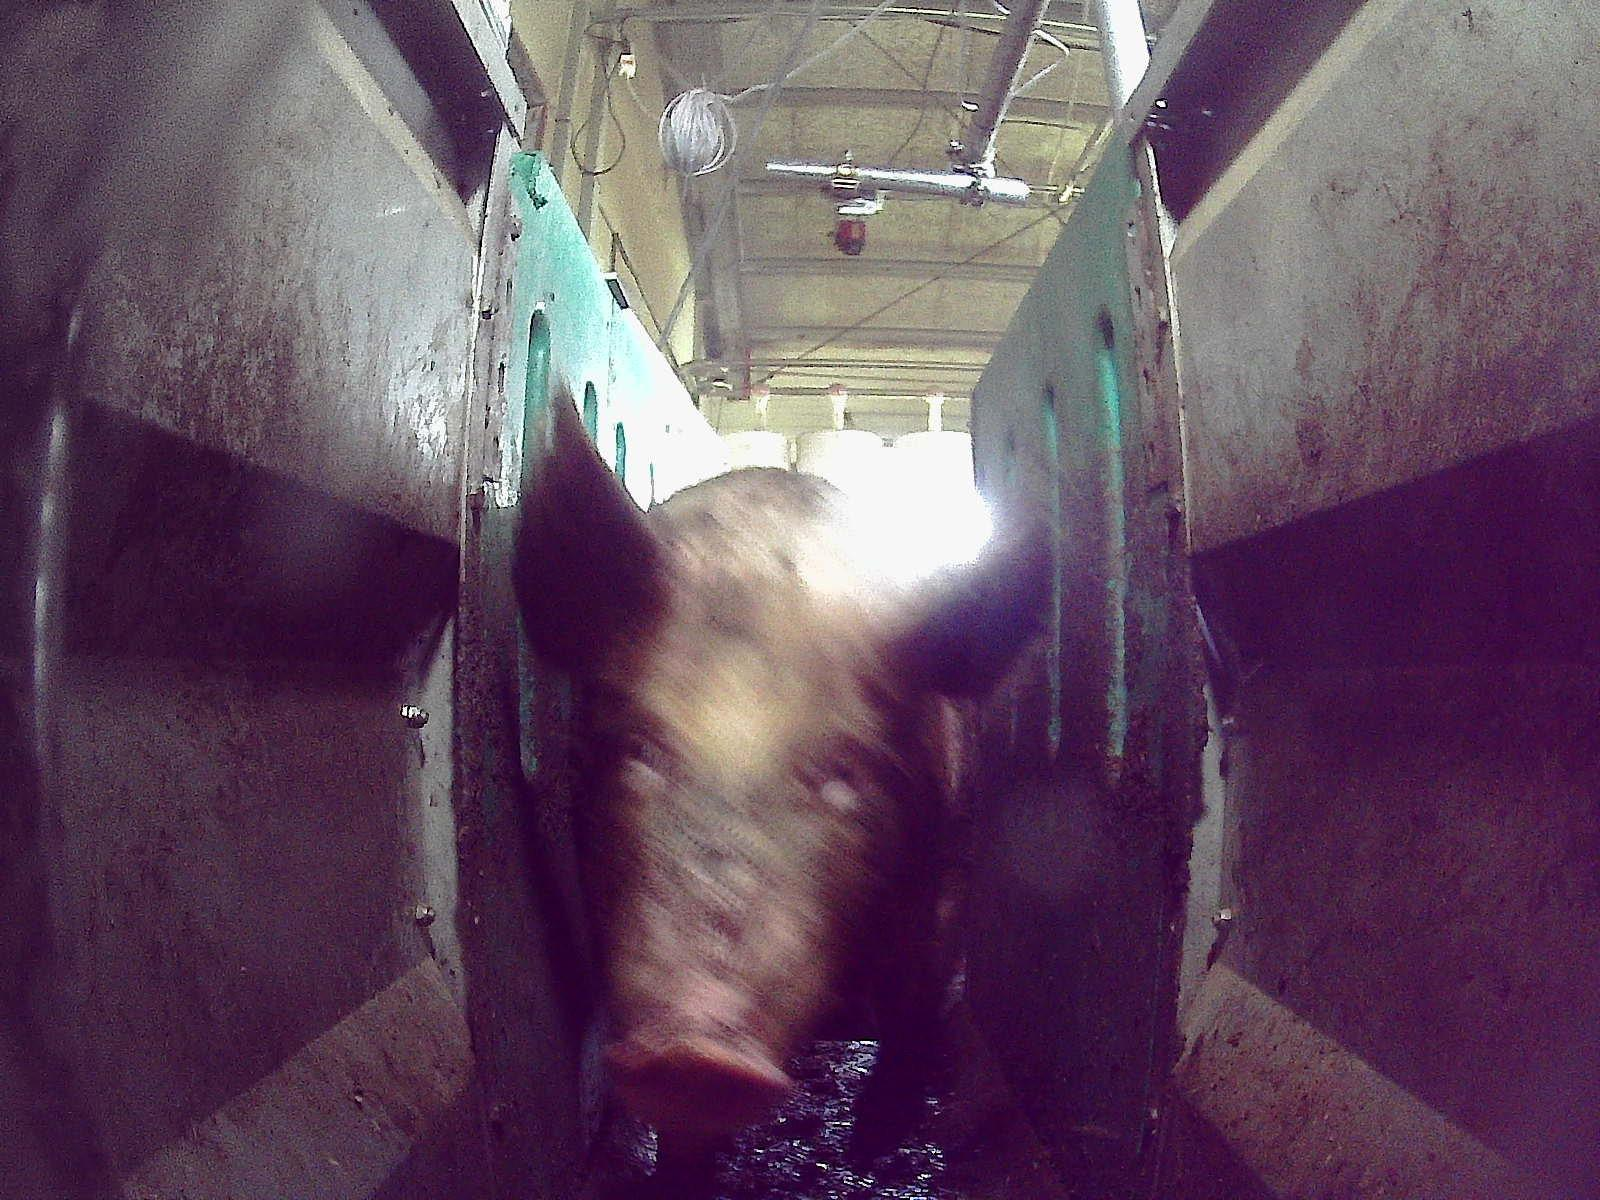Face: (563, 598, 907, 1130)
